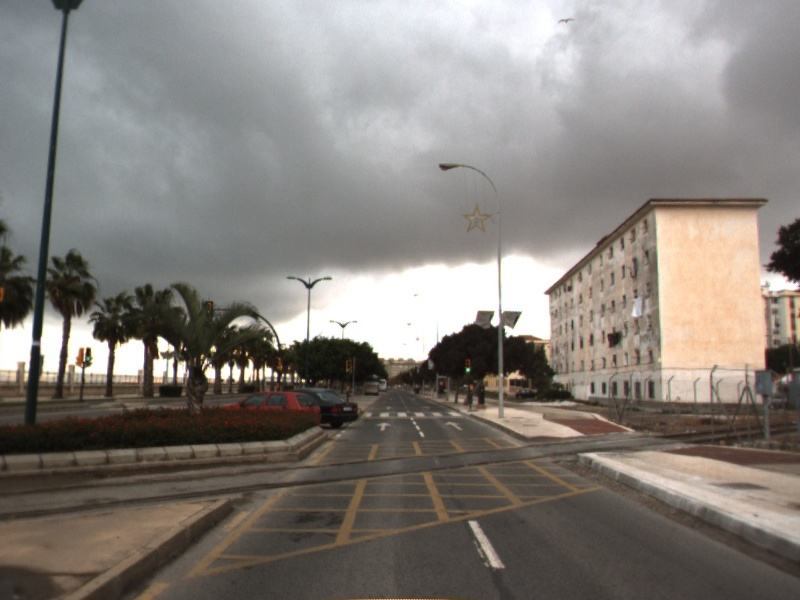STRAIGHT: (443, 419, 465, 432), (374, 420, 394, 433)
